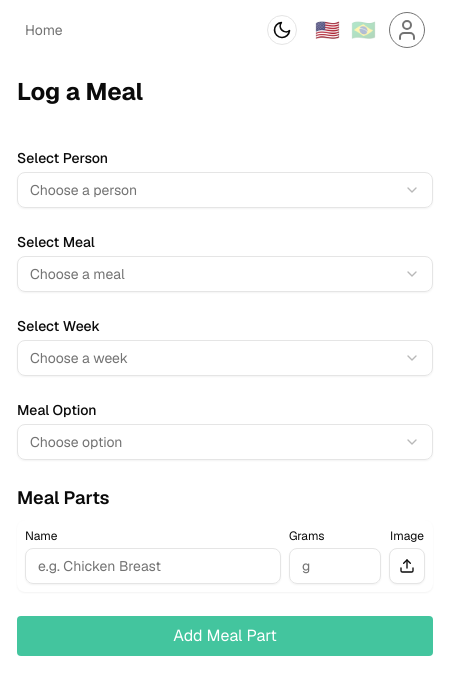
Test: LogMealPage component › Header renders with LanguageSwitcher on log-meal page
Expected: the heading "Log a Meal" is shown, [17,76,143,107]
Expected: the element with test id "language-switcher" is shown, [313,14,381,46]
Click the dropdown labelled "Choose a meal" at (77, 274), box [17,256,433,292]
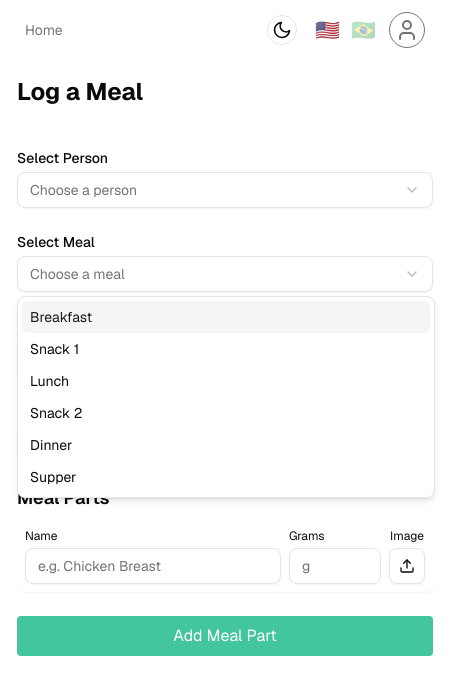
Click the option "Lunch" at (50, 381), box [30,372,69,390]
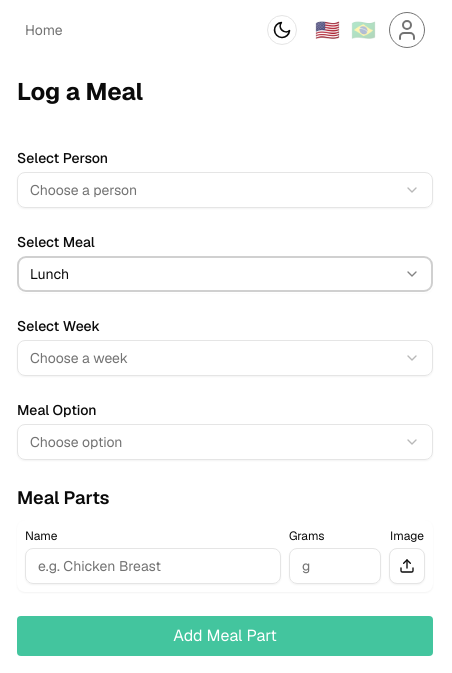
Expected: the text "Lunch" is shown, [30,264,69,284]
Click the dropdown labelled "Choose a week" at (79, 358), box [17,340,433,376]
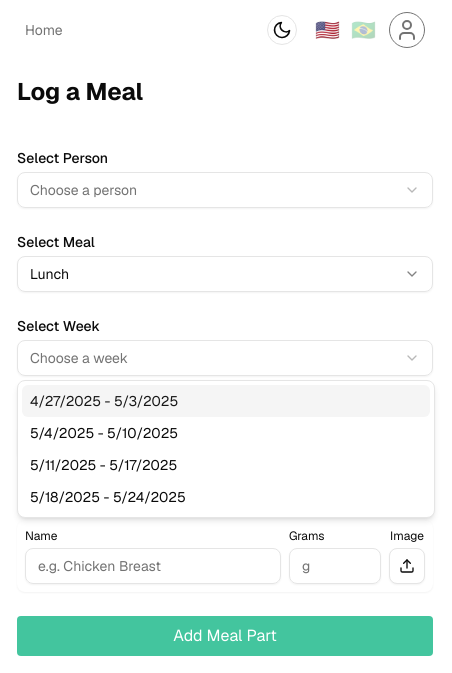
Click the option "4/27/2025 - 5/3/2025" at (104, 401), box [22,385,430,417]
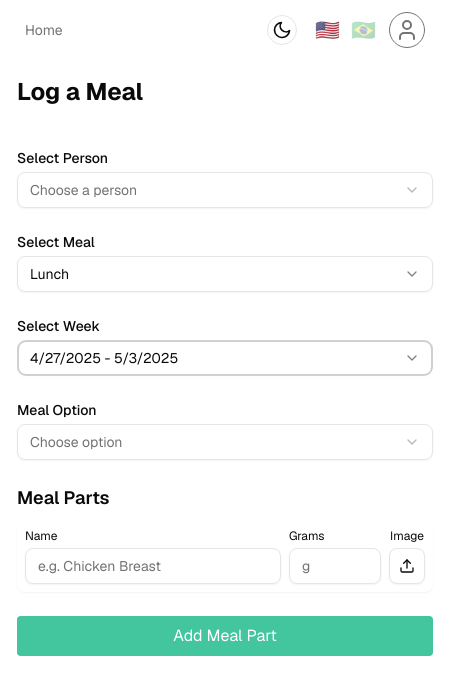
Expected: the dropdown labelled "4/27/2025 - 5/3/2025" does not show "choose week", [17,340,433,376]
Click the dropdown labelled "Choose option" at (76, 442), box [17,424,433,460]
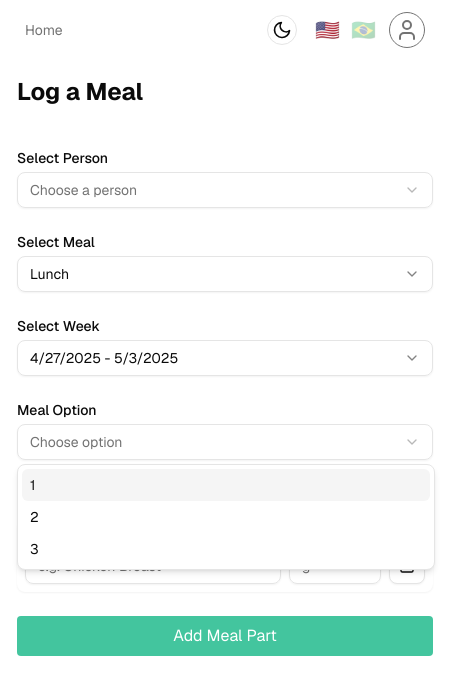
Click the option "2" at (34, 517), box [30,508,39,526]
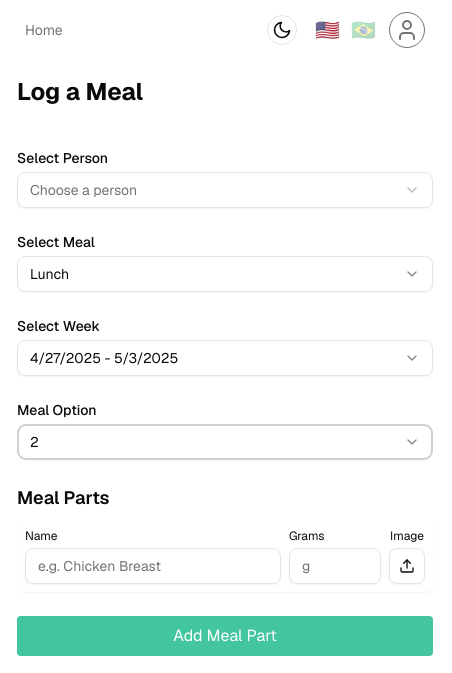
Expected: the text "2" is shown, [30,432,39,452]
